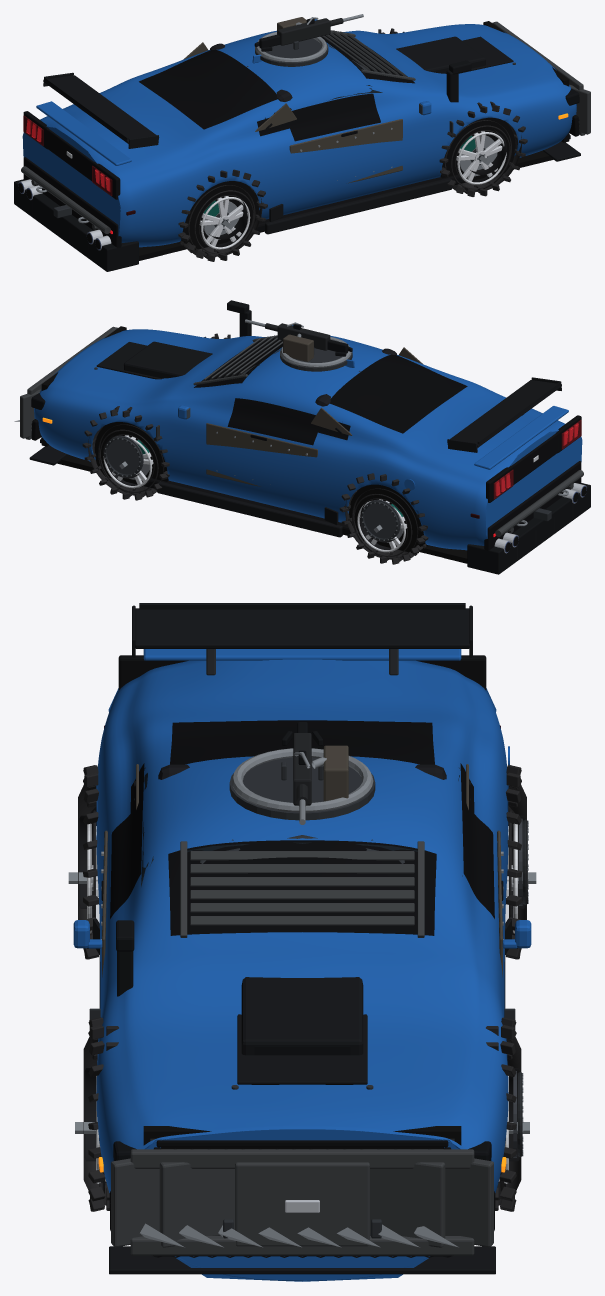
Rendered from darkhorse.glb.
3 views of the same model, one above another, from view 1: azimuth 30°, elevation 25°; view 2: azimuth 150°, elevation 25°; view 3: azimuth 270°, elevation 25° (orthographic). The views are drawn at different scales.
Visible parts, largest first — view 1: Band, Diffuser, CapR, SideSkirt.001, WingBlade, MOD_SuperCowl, MOD_DoorPlate.001, ArchTub.003, DecklidLip, ArchTub.001, RearBumperBand, MOD_TurretBase (+23 smaller); view 2: Band, Diffuser, CapR, SideSkirt, WingBlade, MOD_SuperCowl, MOD_DoorPlate, ArchTub.002, DecklidLip, ArchTub, RearBumperBand, MTFace (+18 smaller); view 3: Band, WingBlade, MOD_RamCentre, MOD_SuperCowl, CapF, MOD_RamTopBar, MOD_RamFacet.001, MOD_RamFacet, Splitter, MOD_RamLowBar, HoodExtractor, MOD_TurretBase (+18 smaller).
Part boxes in pixels (x1=…): Band: x1=23, y1=24, x2=576, y2=247; Diffuser: x1=14, y1=179, x2=138, y2=271; CapR: x1=22, y1=127, x2=120, y2=236; SideSkirt.001: x1=265, y1=178, x2=452, y2=234; WingBlade: x1=43, y1=75, x2=159, y2=143; MOD_SuperCowl: x1=396, y1=36, x2=485, y2=73; MOD_DoorPlate.001: x1=289, y1=119, x2=402, y2=183; ArchTub.003: x1=179, y1=181, x2=258, y2=250; DecklidLip: x1=36, y1=101, x2=131, y2=165; ArchTub.001: x1=440, y1=117, x2=515, y2=183; RearBumperBand: x1=23, y1=157, x2=121, y2=247; MOD_TurretBase: x1=255, y1=38, x2=328, y2=66; Band: x1=34, y1=329, x2=581, y2=550; Diffuser: x1=467, y1=483, x2=590, y2=574; CapR: x1=485, y1=431, x2=582, y2=538; SideSkirt: x1=157, y1=481, x2=342, y2=537; WingBlade: x1=447, y1=380, x2=561, y2=447; MOD_SuperCowl: x1=124, y1=341, x2=212, y2=378; MOD_DoorPlate: x1=206, y1=423, x2=317, y2=486; ArchTub.002: x1=349, y1=484, x2=426, y2=552; DecklidLip: x1=474, y1=406, x2=568, y2=469; ArchTub: x1=94, y1=422, x2=168, y2=486; RearBumperBand: x1=484, y1=461, x2=581, y2=550; MTFace: x1=107, y1=435, x2=143, y2=474; Band: x1=96, y1=659, x2=508, y2=1280; WingBlade: x1=135, y1=608, x2=469, y2=648; MOD_RamCentre: x1=235, y1=1162, x2=369, y2=1246; MOD_SuperCowl: x1=241, y1=977, x2=363, y2=1055; CapF: x1=146, y1=1129, x2=458, y2=1281; MOD_RamTopBar: x1=130, y1=1149, x2=474, y2=1168; MOD_RamFacet.001: x1=159, y1=1162, x2=234, y2=1247; MOD_RamFacet: x1=370, y1=1162, x2=445, y2=1247; Splitter: x1=109, y1=1246, x2=495, y2=1274; MOD_RamLowBar: x1=130, y1=1236, x2=474, y2=1255; HoodExtractor: x1=237, y1=1014, x2=367, y2=1084; MOD_TurretBase: x1=229, y1=757, x2=375, y2=820.
Bounding box in the file's own units: 5.27 × 1.7 × 2.15.
